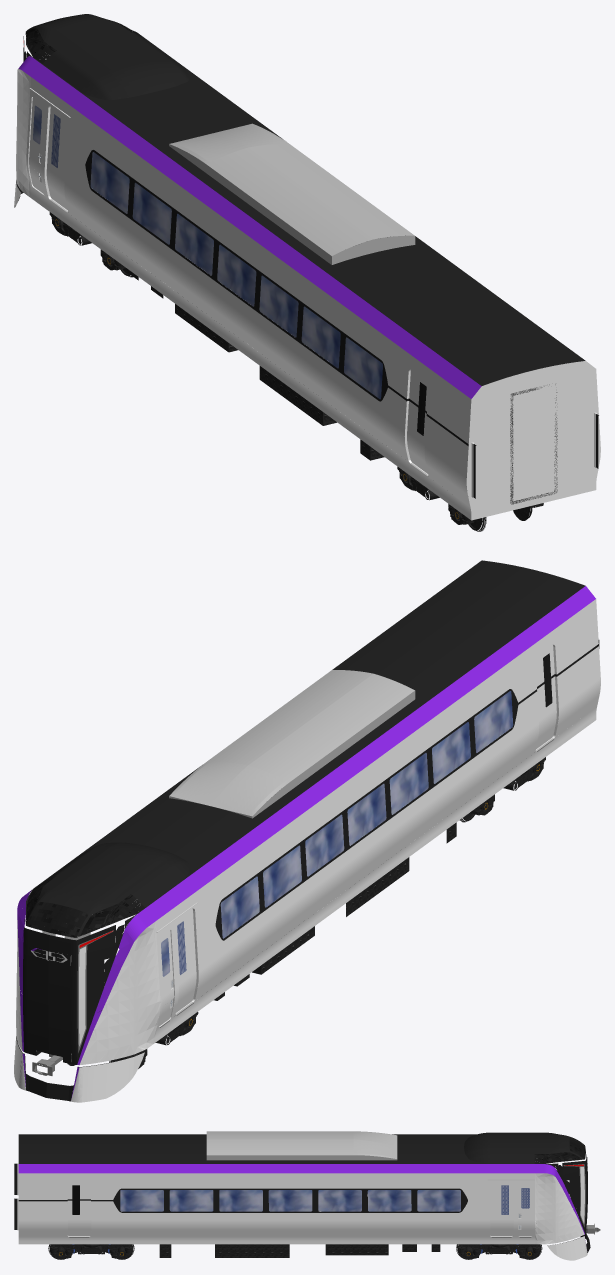
File: JRE353-simple-car4.glb
3 renders of one model, top to bottom at view 1: azimuth 30°, elevation 25°; view 2: azimuth 150°, elevation 25°; view 3: azimuth 270°, elevation 25°, orthographic. The views are drawn at different scales.
Visible parts, largest first — view 1: skpFC3B; view 2: skpFC3B; view 3: skpFC3B.
Boxes of the visible parts, bbox=[...] form: skpFC3B: bbox=[14, 14, 600, 531]; skpFC3B: bbox=[14, 560, 600, 1102]; skpFC3B: bbox=[14, 1131, 600, 1260].
Size of the model in its own units: 3.12 by 4.33 by 20.15.
20 materials, 8 textured.
